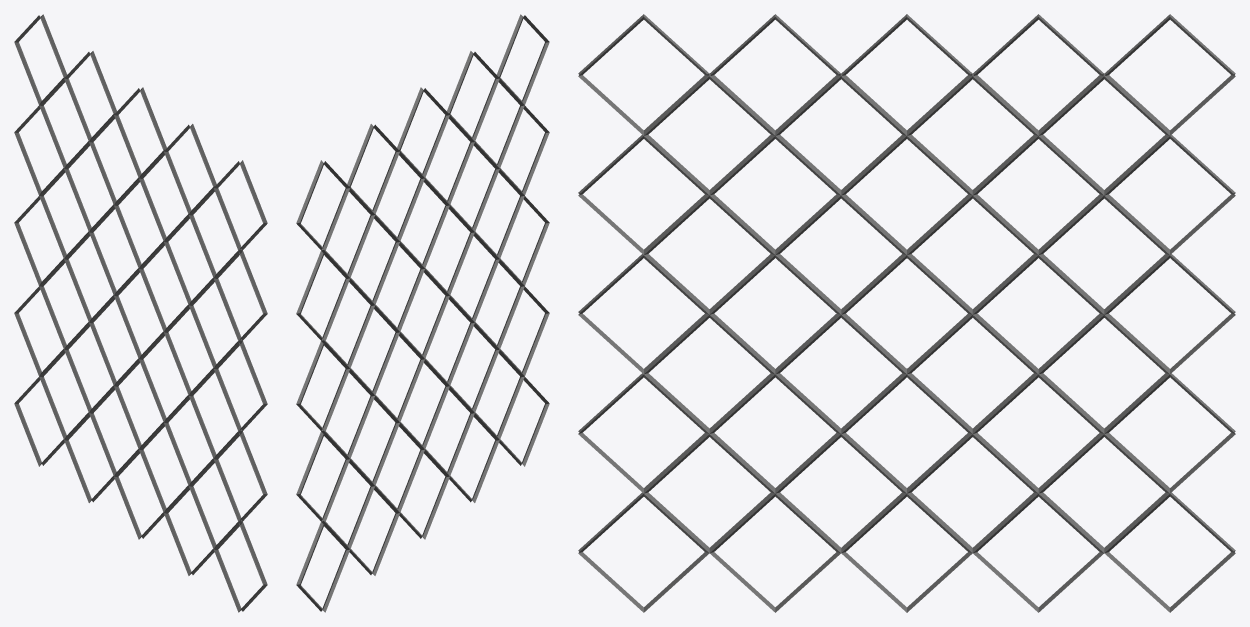
File: Metal_Fence.fbx
The picture shows the model from 3 angles, left to right: view 1: azimuth 30°, elevation 25°; view 2: azimuth 150°, elevation 25°; view 3: azimuth 270°, elevation 25°; orthographic projection. The views are drawn at different scales.
Parts seen in each view (by area): view 1: Metal Fence; view 2: Metal Fence; view 3: Metal Fence.
Part boxes in pixels (left/top/right/bottom): Metal Fence: left=14, top=14, right=267, bottom=612; Metal Fence: left=296, top=14, right=549, bottom=612; Metal Fence: left=578, top=14, right=1235, bottom=612.
Bounding box in the file's own units: 4.69 × 469 × 469.
